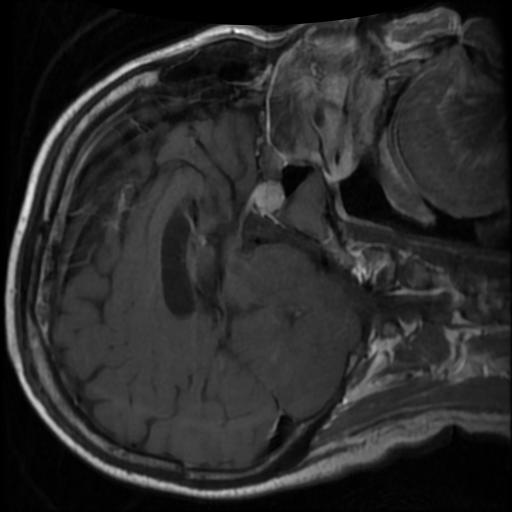pituitary tumour: (249, 178, 286, 218)
